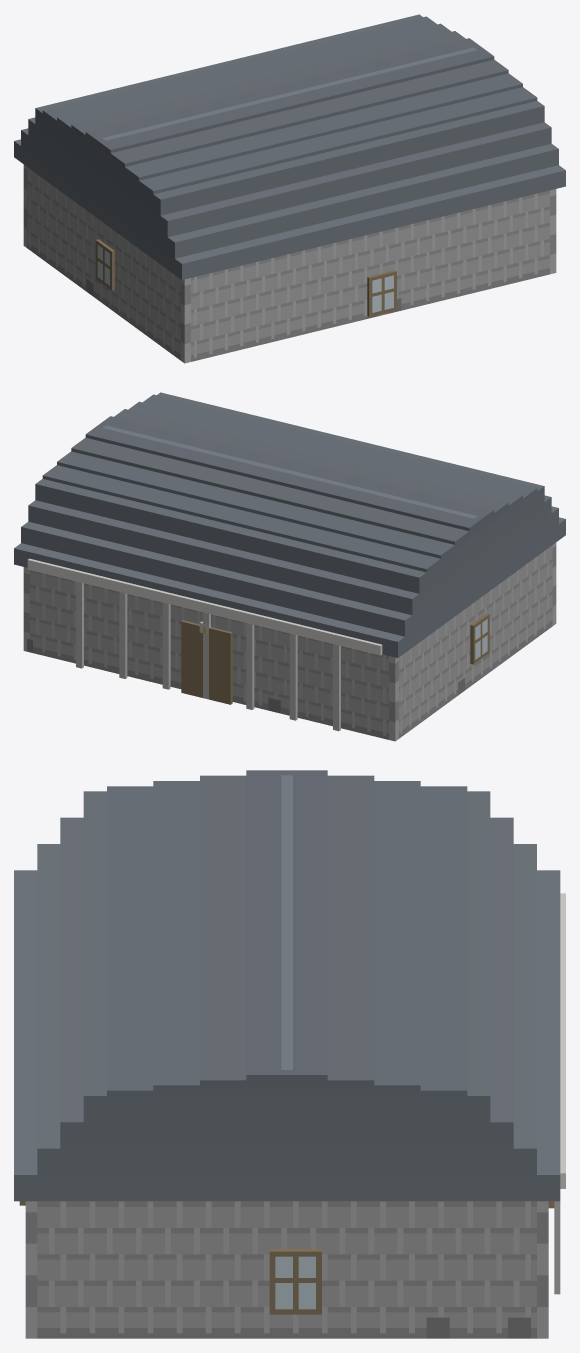
The model's file is salon_jarl_03.glb.
3 renders of one model, top to bottom at view 1: azimuth 30°, elevation 25°; view 2: azimuth 150°, elevation 25°; view 3: azimuth 270°, elevation 25°, orthographic. The views are drawn at different scales.
Parts seen in each view (by area): view 1: salon_jarl_03; view 2: salon_jarl_03; view 3: salon_jarl_03.
Part boxes in pixels (box(x1,y1,x2,y2)): salon_jarl_03: box(14, 14, 565, 363); salon_jarl_03: box(14, 392, 565, 741); salon_jarl_03: box(14, 770, 565, 1338).
Bounding box in the file's own units: 12.4 × 5.1 × 9.5.
